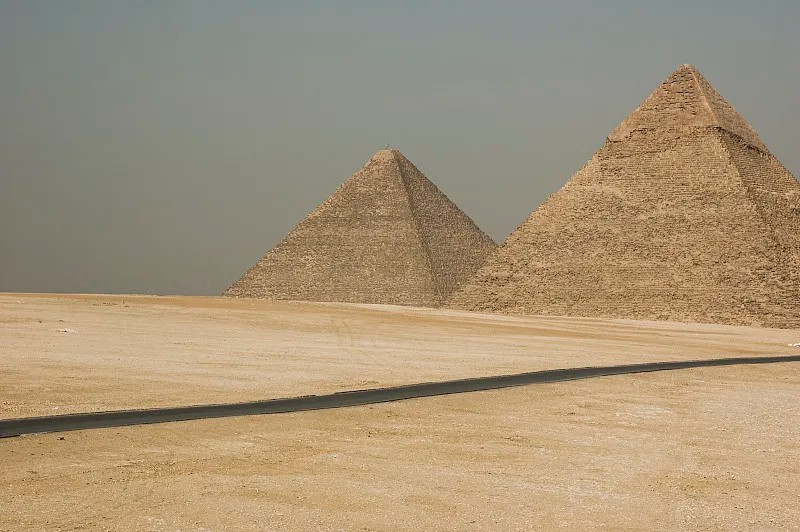Pyramid: (439, 63, 800, 327), (222, 147, 499, 308)
